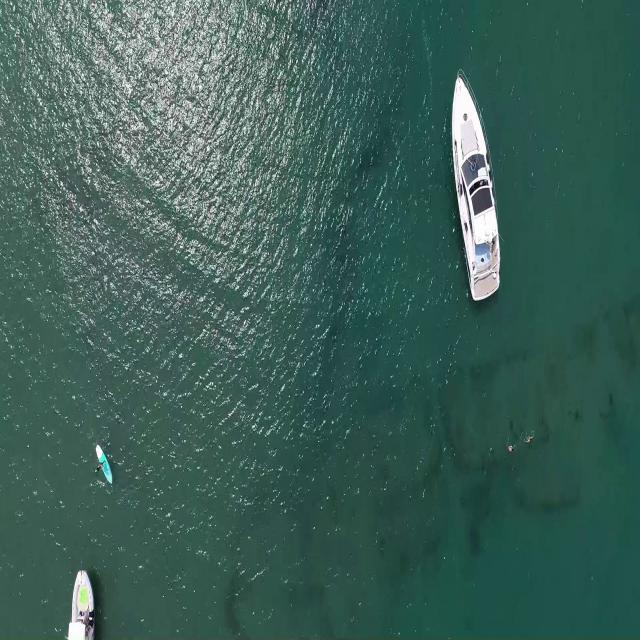boat: (449, 67, 504, 306), (65, 569, 97, 637)
person: (523, 430, 536, 444), (94, 458, 105, 473), (508, 442, 516, 452)
surfboard: (96, 442, 112, 492)
